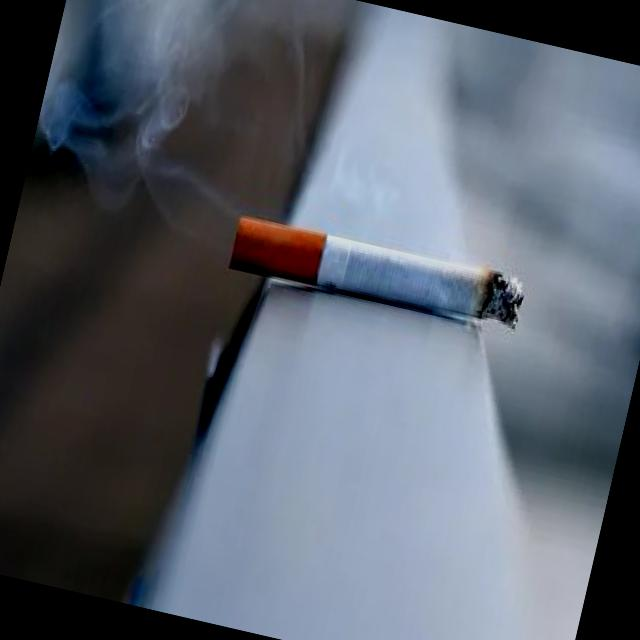cigarette: (222, 205, 534, 342)
